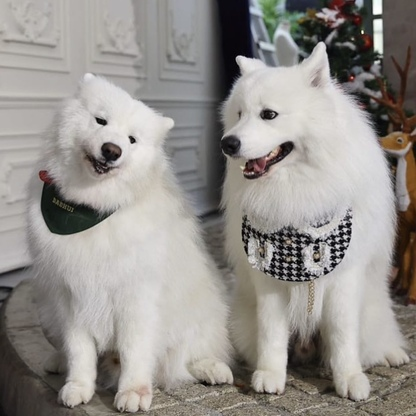samoyed: (216, 36, 416, 404), (18, 69, 218, 416)
